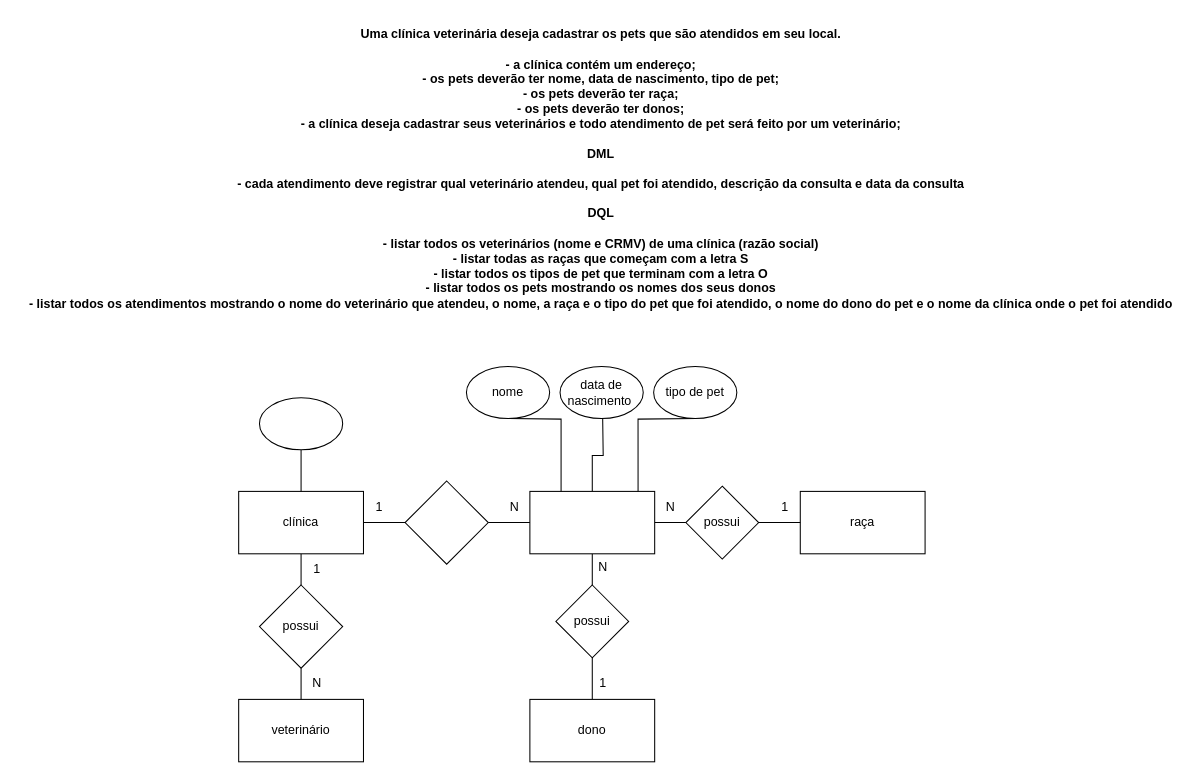
Some shapes in this 1200 by 780 pixel diagram are drawn without their labels. The centre of each missing label's shape, as x and y in pixels:
atende: the point at 446,522
endereço: the point at 300,423
pet: the point at 592,522
